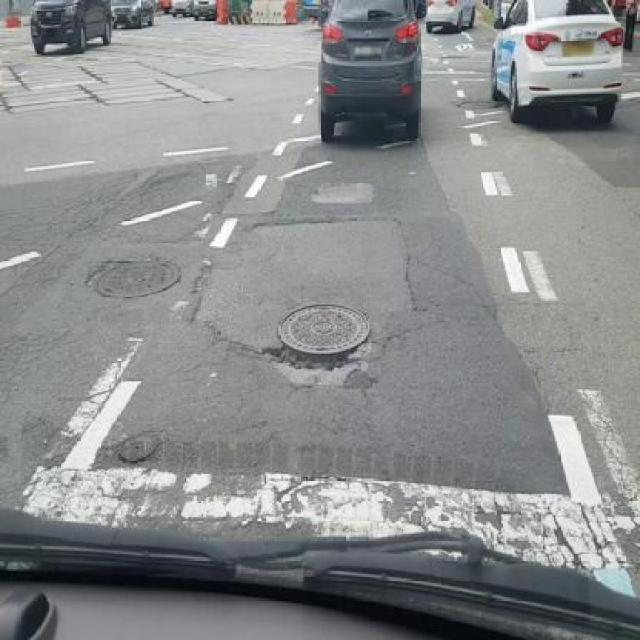Manhole: (259, 300, 375, 359), (86, 257, 182, 300), (118, 430, 162, 464), (454, 95, 506, 116)
Pothole: (282, 349, 352, 367), (342, 368, 380, 390), (255, 338, 281, 361)
